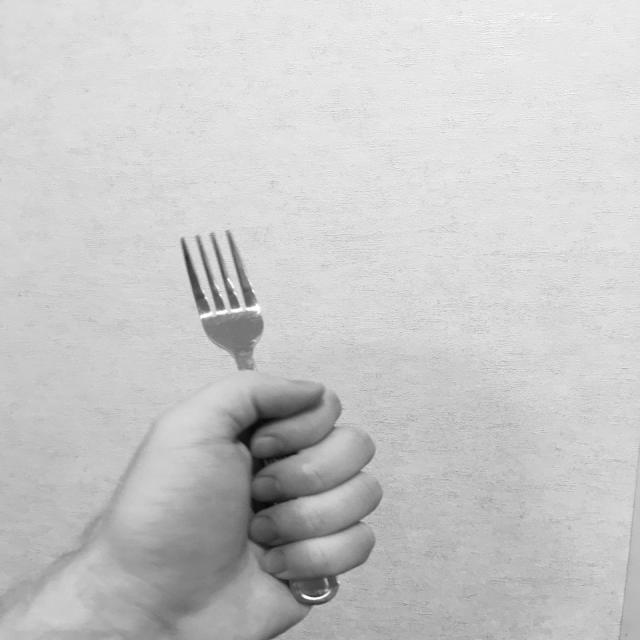fork: (179, 228, 338, 602)
